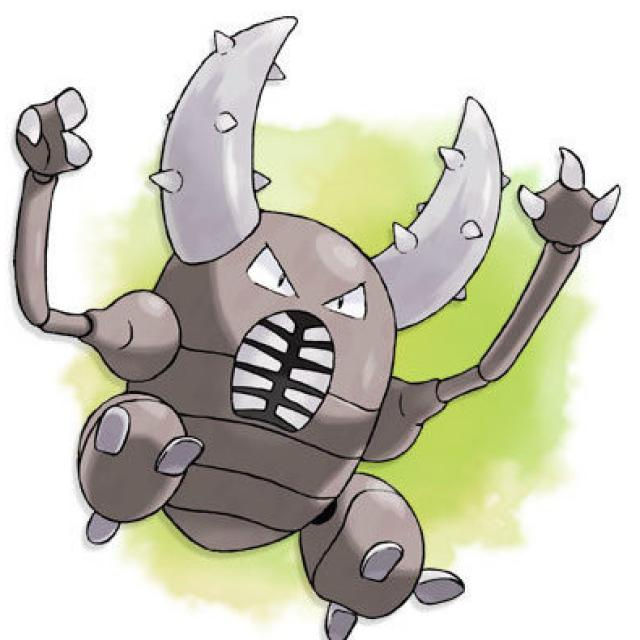Pinsir: (66, 15, 495, 624)
